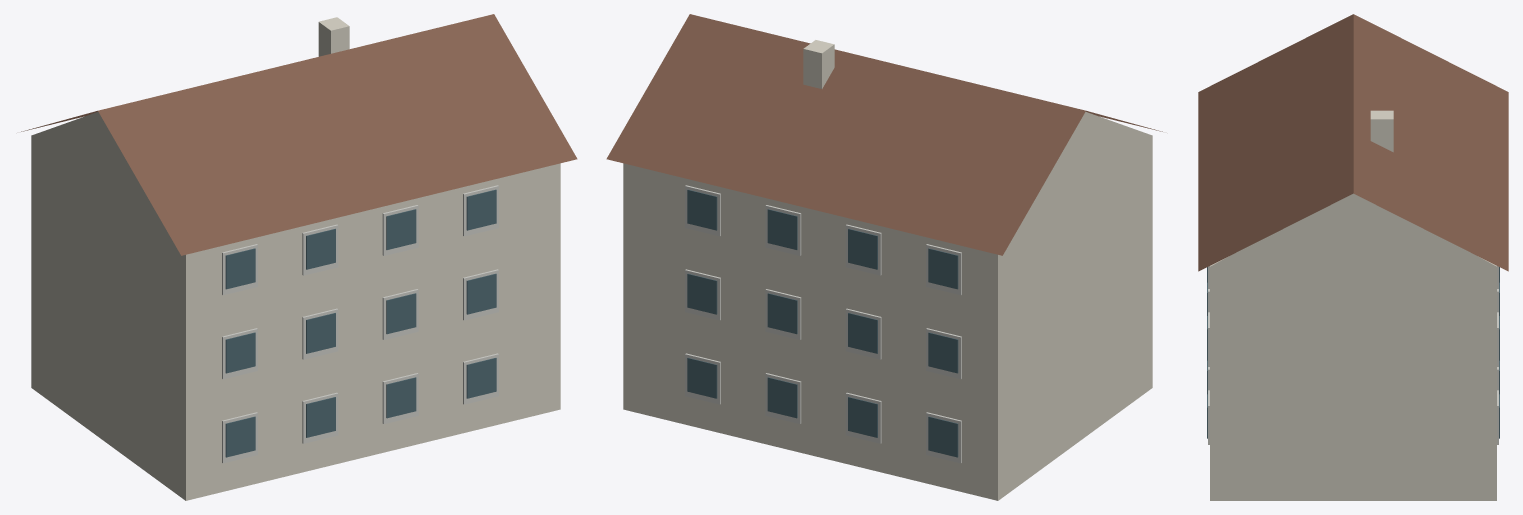
The model's file is House_1_LOD1.glb.
The picture shows the model from 3 angles, left to right: view 1: azimuth 30°, elevation 25°; view 2: azimuth 150°, elevation 25°; view 3: azimuth 270°, elevation 25°; orthographic projection. The views are drawn at different scales.
Visible parts, largest first — view 1: House_1_LOD1; view 2: House_1_LOD1; view 3: House_1_LOD1.
Part boxes in pixels (x1=…): House_1_LOD1: x1=21, y1=14, x2=577, y2=500; House_1_LOD1: x1=606, y1=14, x2=1162, y2=500; House_1_LOD1: x1=1198, y1=14, x2=1508, y2=500.
Bounding box in the file's own units: 14.8 × 12.5 × 10.8.
